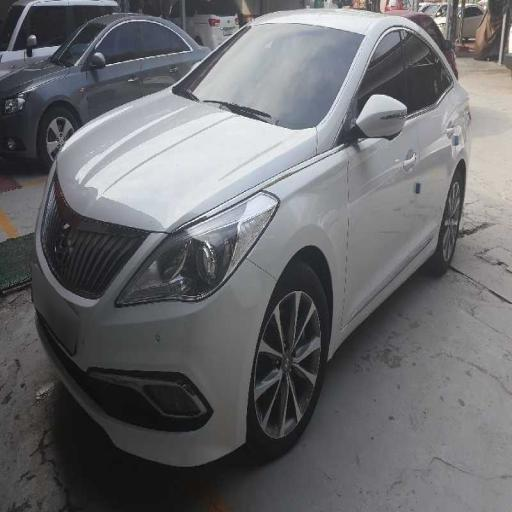scratch: (246, 157, 446, 277)
